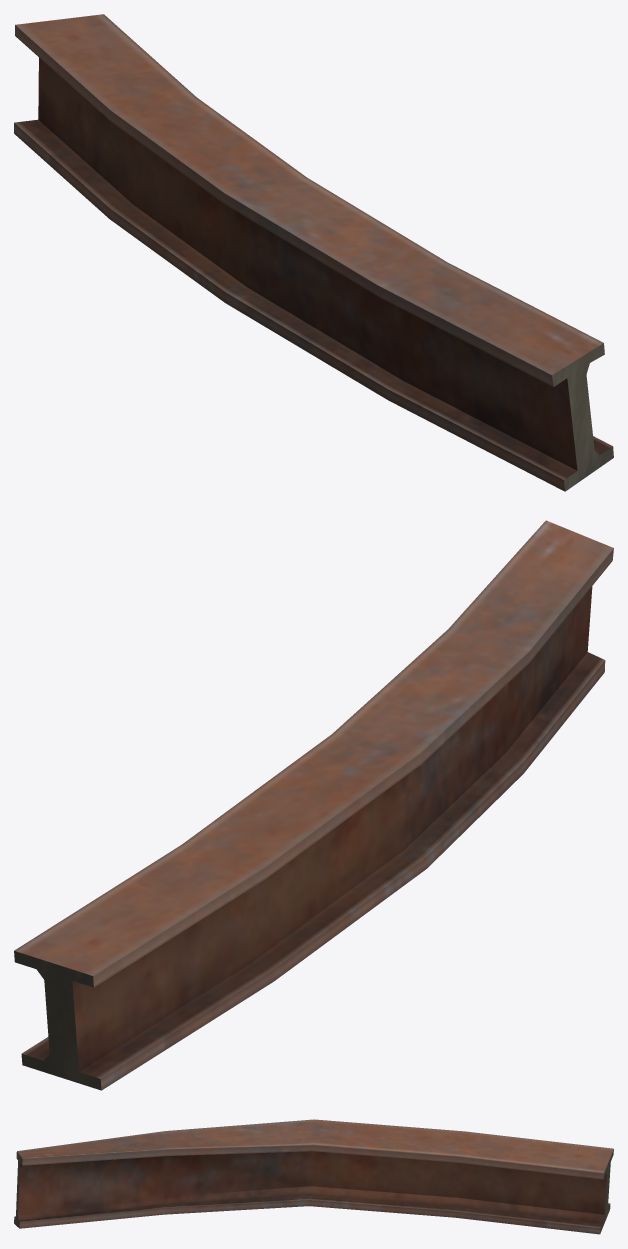
Rendered from comdome_metal_girder01.dae.
3 renders of one model, top to bottom at view 1: azimuth 30°, elevation 25°; view 2: azimuth 150°, elevation 25°; view 3: azimuth 270°, elevation 25°, orthographic. The views are drawn at different scales.
Visible parts, largest first — view 1: polySurface711; view 2: polySurface711; view 3: polySurface711.
Part boxes in pixels (box(x1,y1,x2,y2)): polySurface711: box(14, 14, 613, 491); polySurface711: box(14, 520, 613, 1090); polySurface711: box(14, 1119, 613, 1234).
Size of the model in its own units: 0.3276 by 0.298 by 2.02.
